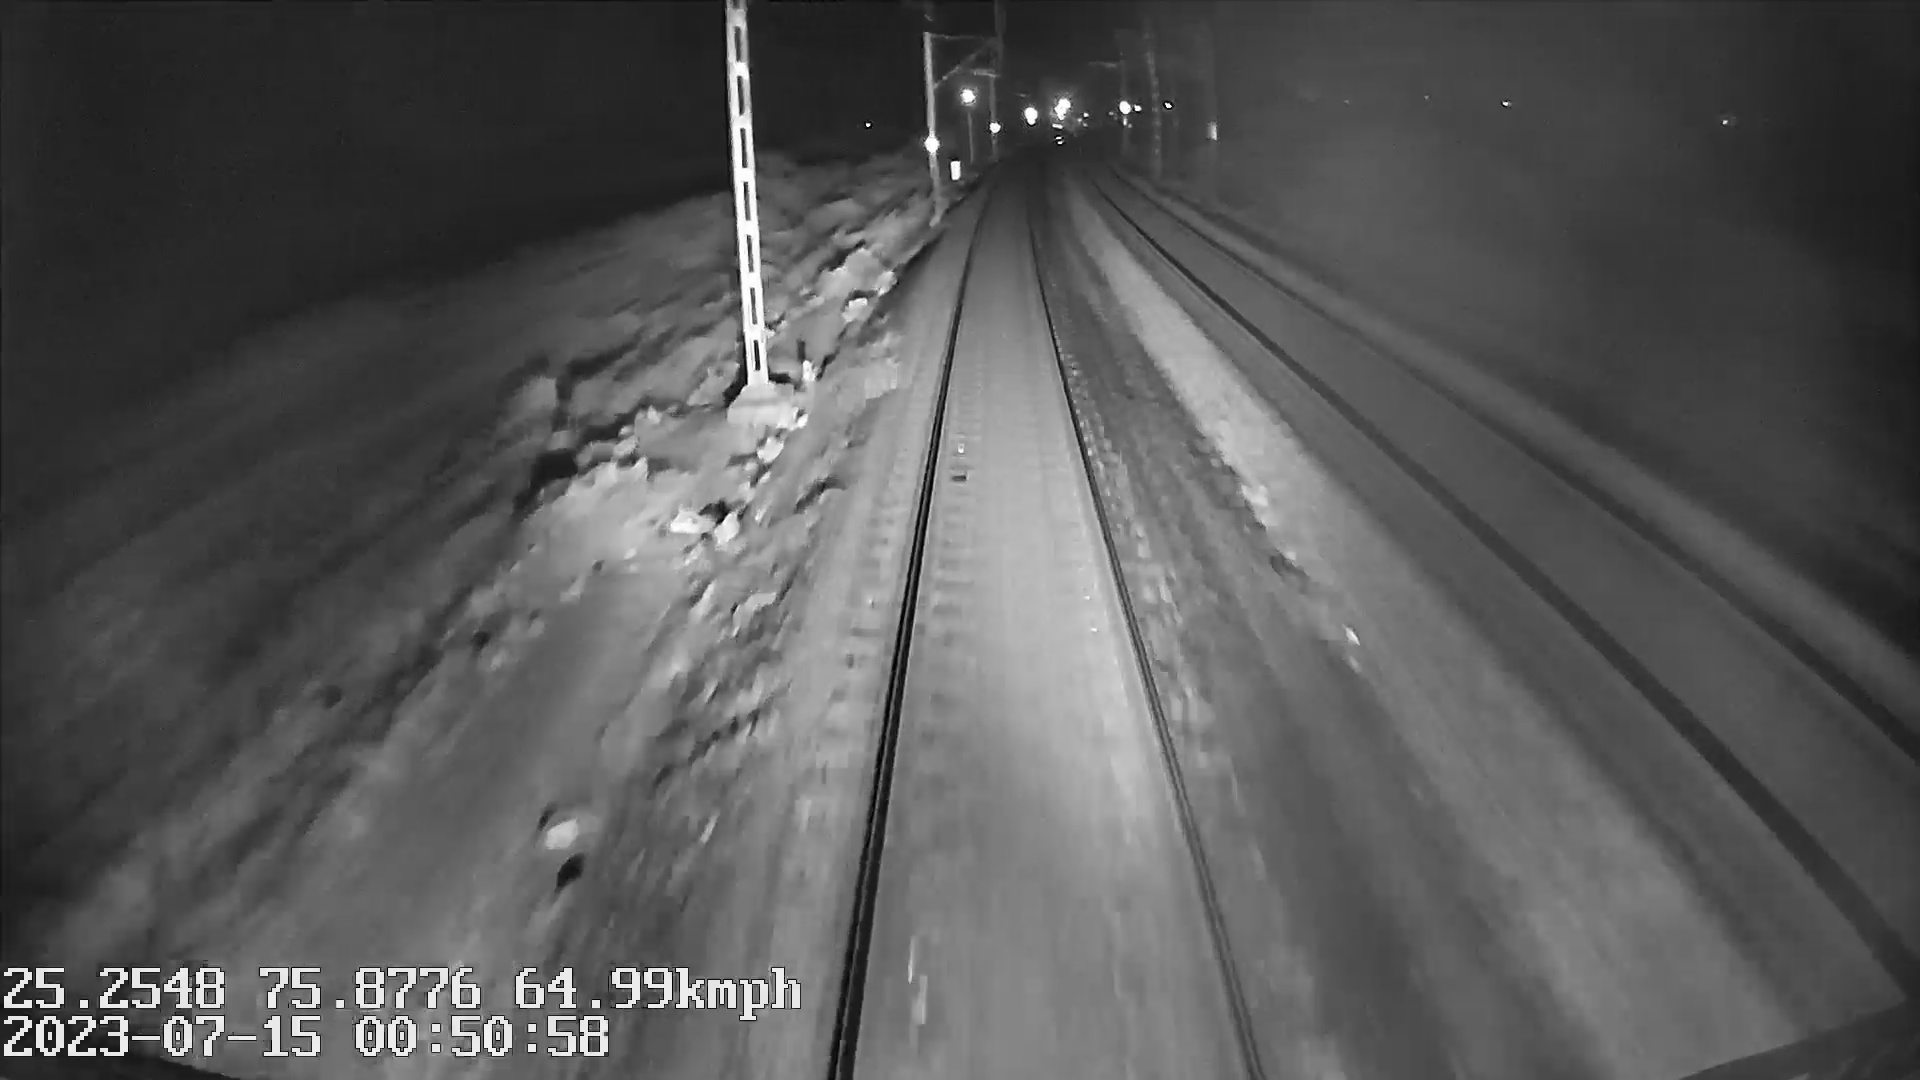track1: (847, 198, 1249, 1051)
track2: (1105, 187, 1907, 853)
